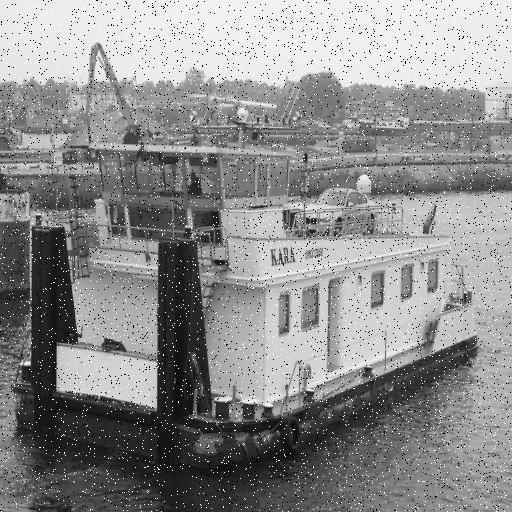tugboat: (9, 82, 481, 483)
